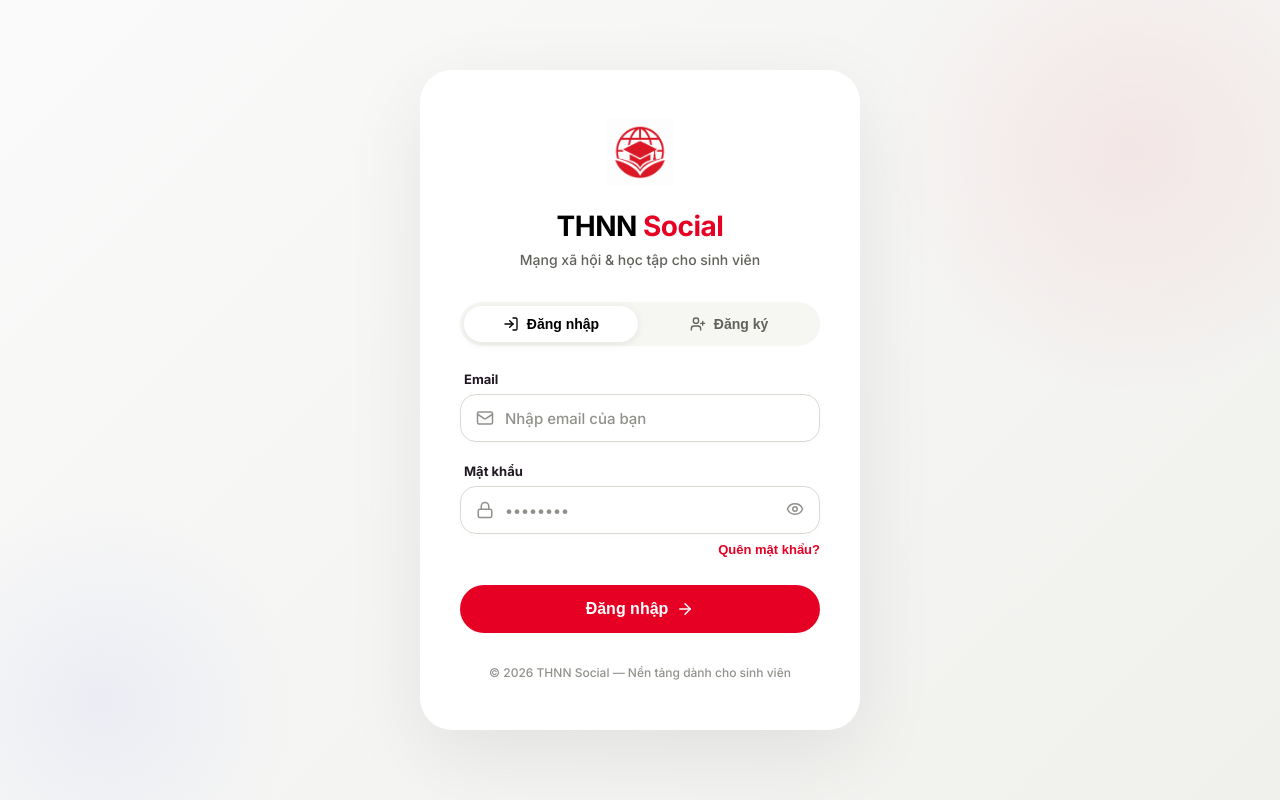
Scenario: AuthPage — login › failure_shows_error_message
The image size is (1280, 800).
Type "a@b.c" into the field with id "login-email" at (640, 418), box [460,394,820,442]
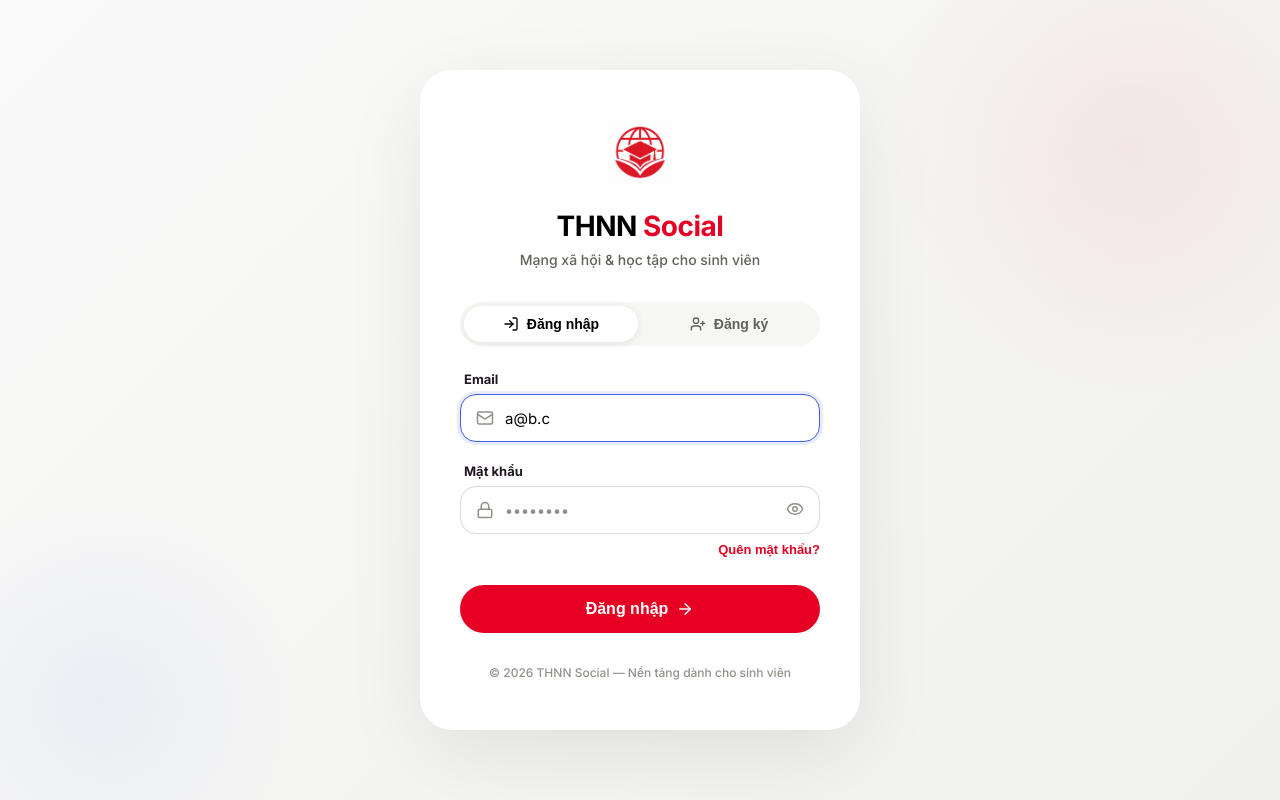
Type "wrong" into the password field with id "login-password" at (640, 510), box [460,486,820,534]
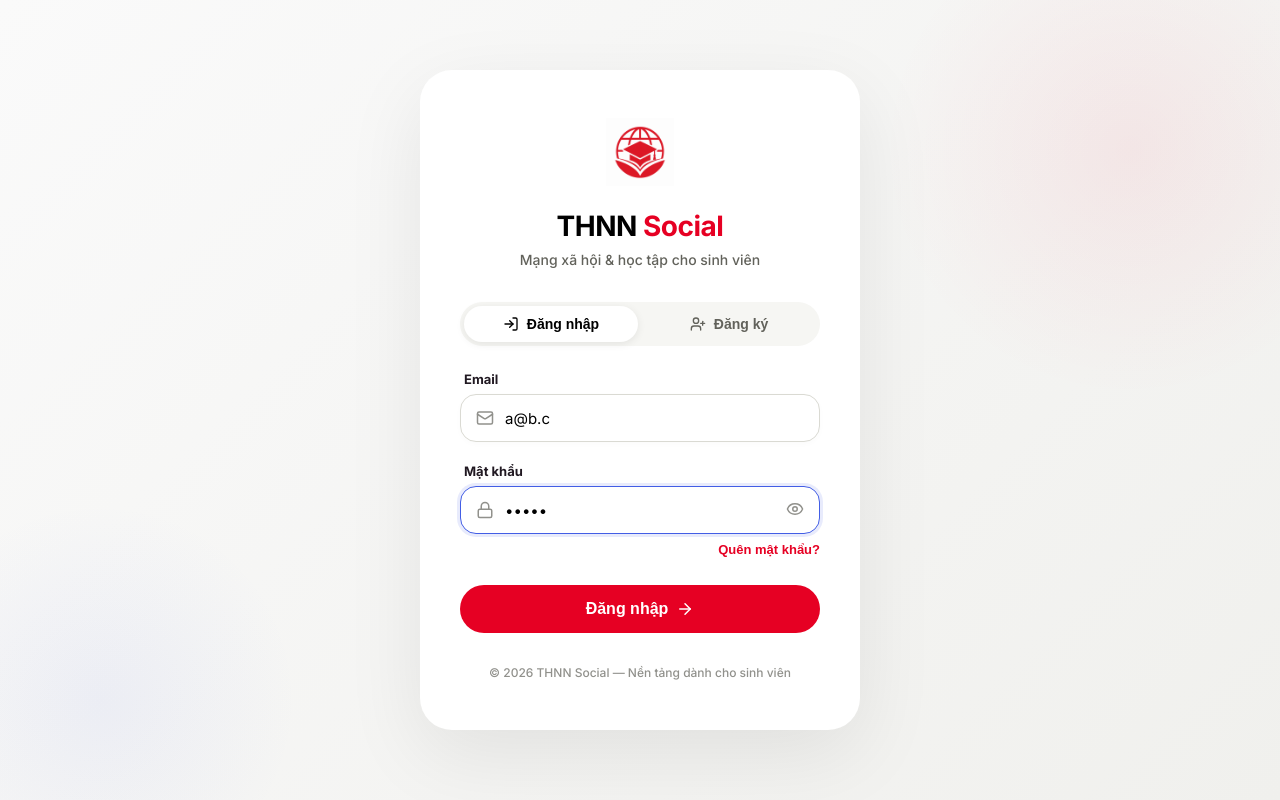
Click the submit button at (640, 609), box [460,585,820,633]
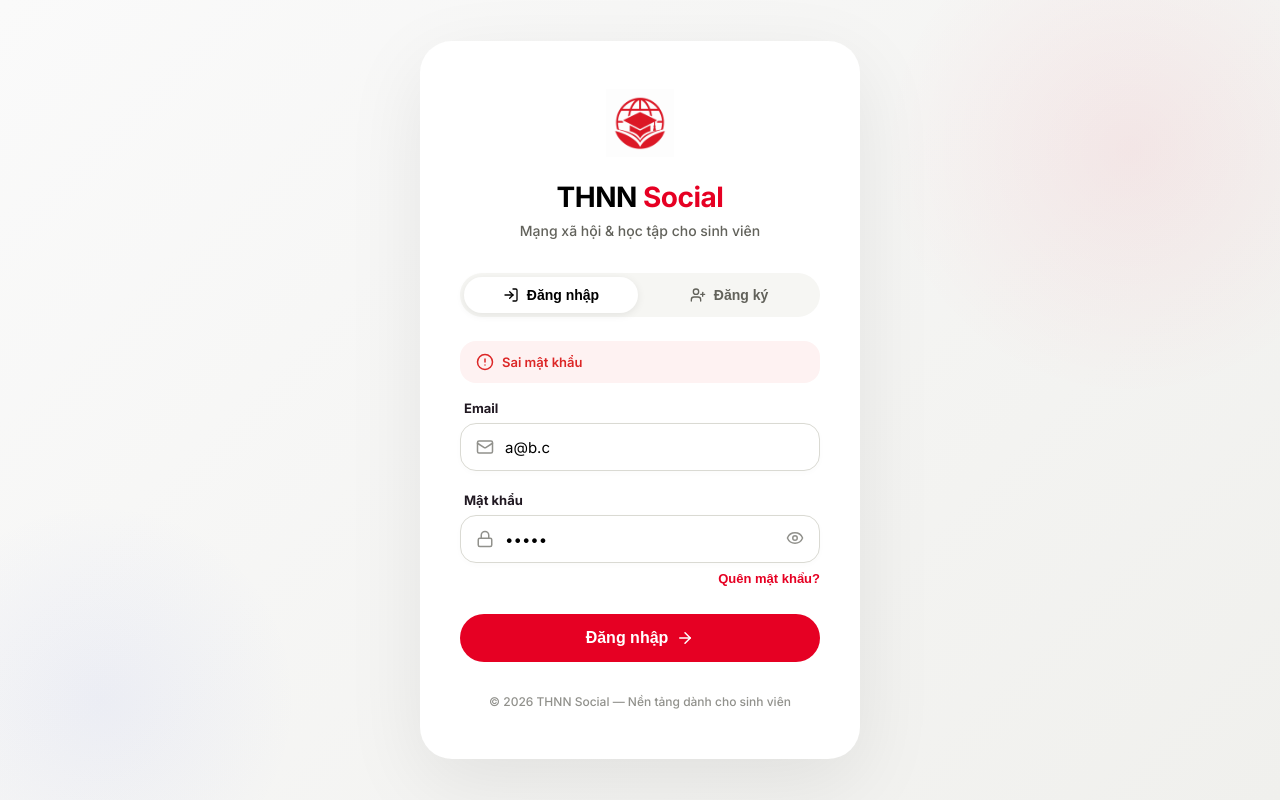
expect the text "Sai mật khẩu" is shown: met, box [460,341,820,383]
